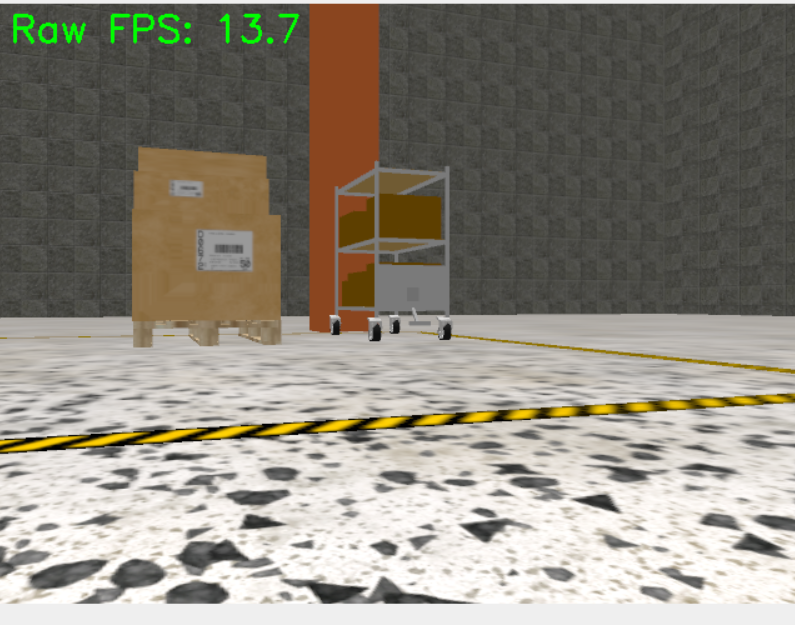barcode: (196, 227, 252, 272), (169, 178, 204, 199)
